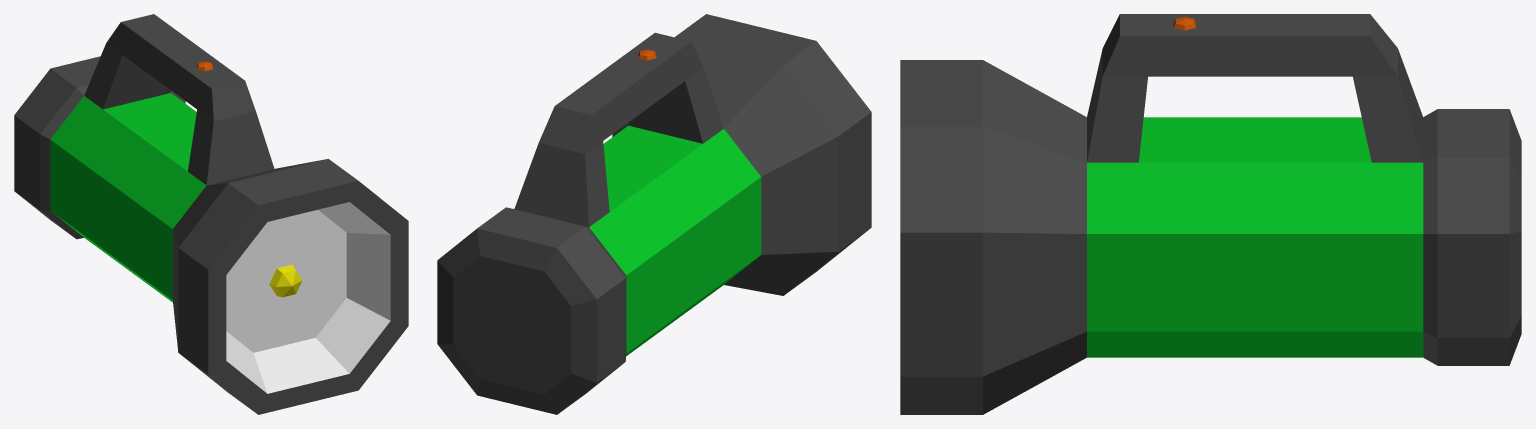
Rendered from flashlight2.fbx.
3 renders of one model, left to right at view 1: azimuth 30°, elevation 25°; view 2: azimuth 150°, elevation 25°; view 3: azimuth 270°, elevation 25°, orthographic. The views are drawn at different scales.
Parts seen in each view (by area): view 1: flashlight2, bolb; view 2: flashlight2; view 3: flashlight2.
Boxes of the visible parts, bbox=[...] form: flashlight2: bbox=[14, 14, 408, 414]; bolb: bbox=[269, 264, 302, 297]; flashlight2: bbox=[437, 14, 871, 414]; flashlight2: bbox=[900, 14, 1521, 414].
Size of the model in its own units: 4.44 by 5.59 by 8.69.
